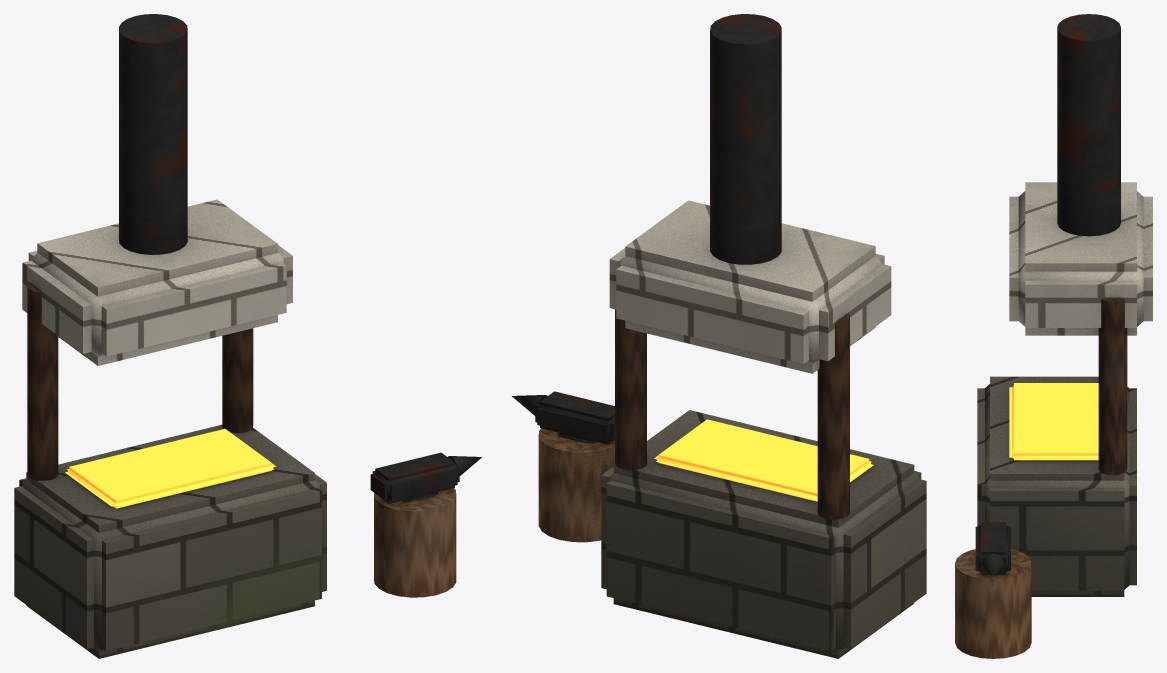
File: cenario_forja.glb
3 views of the same model, side by side, from view 1: azimuth 30°, elevation 25°; view 2: azimuth 150°, elevation 25°; view 3: azimuth 270°, elevation 25° (orthographic). The views are drawn at different scales.
Visible parts, largest first — view 1: cenario_forja; view 2: cenario_forja; view 3: cenario_forja.
Boxes of the visible parts, bbox=[...] form: cenario_forja: bbox=[14, 14, 481, 658]; cenario_forja: bbox=[512, 14, 926, 658]; cenario_forja: bbox=[955, 14, 1152, 658].
Size of the model in its own units: 2.65 by 3.6 by 1.24.
Materials: 2 (1 with a texture image).
